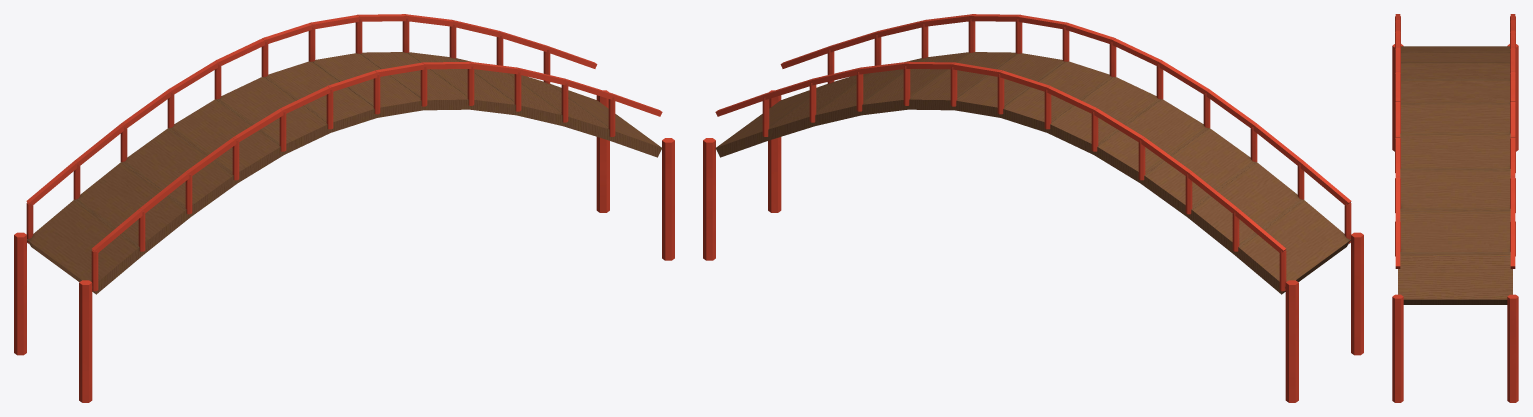
Rendered from taikobashi_tex.glb.
3 renders of one model, left to right at view 1: azimuth 30°, elevation 25°; view 2: azimuth 150°, elevation 25°; view 3: azimuth 270°, elevation 25°, orthographic. The views are drawn at different scales.
Visible parts, largest first — view 1: taikobashi; view 2: taikobashi; view 3: taikobashi.
Part boxes in pixels (box(x1,y1,x2,y2)): taikobashi: box(14, 14, 674, 402); taikobashi: box(703, 14, 1363, 402); taikobashi: box(1392, 14, 1518, 402).
Bounding box in the file's own units: 12.61 × 5.25 × 2.64.
2 materials, 2 textured.
